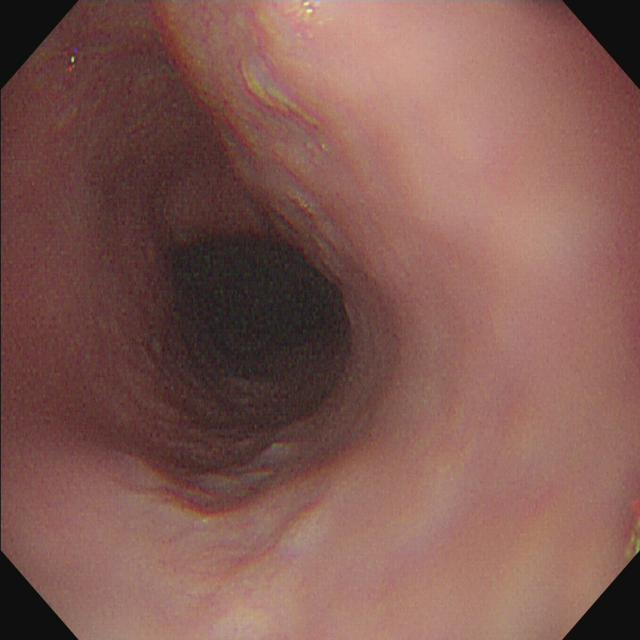E: (177, 242, 350, 380)
